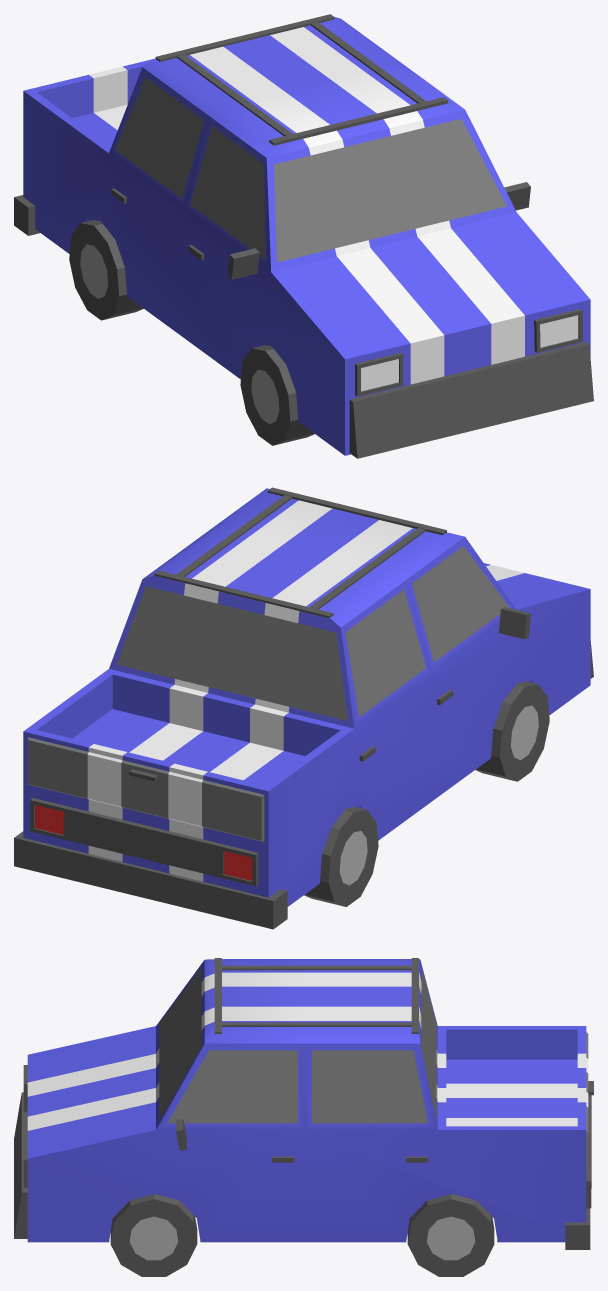
Rendered from SM_Car_10_04.FBX.
The picture shows the model from 3 angles, top to bottom: view 1: azimuth 30°, elevation 25°; view 2: azimuth 150°, elevation 25°; view 3: azimuth 270°, elevation 25°; orthographic projection. The views are drawn at different scales.
Visible parts, largest first — view 1: SM_Car_10_04, SM_Wheel_LFront002, SM_Wheel_RBack001; view 2: SM_Car_10_04, SM_Wheel_LFront002, SM_Wheel_RBack001; view 3: SM_Car_10_04, SM_Wheel_LFront001, SM_Wheel_LBack001.
Boxes of the visible parts, x1=… form: SM_Car_10_04: x1=14, y1=14, x2=593, y2=458; SM_Wheel_LFront002: x1=240, y1=345, x2=314, y2=445; SM_Wheel_RBack001: x1=69, y1=220, x2=143, y2=320; SM_Car_10_04: x1=14, y1=487, x2=593, y2=929; SM_Wheel_LFront002: x1=475, y1=681, x2=549, y2=781; SM_Wheel_RBack001: x1=304, y1=806, x2=378, y2=906; SM_Car_10_04: x1=14, y1=958, x2=593, y2=1249; SM_Wheel_LFront001: x1=110, y1=1194, x2=197, y2=1276; SM_Wheel_LBack001: x1=407, y1=1194, x2=494, y2=1276.
Size of the model in its own units: 1.7 by 1.43 by 3.31.
Materials: 1 (1 with a texture image).
